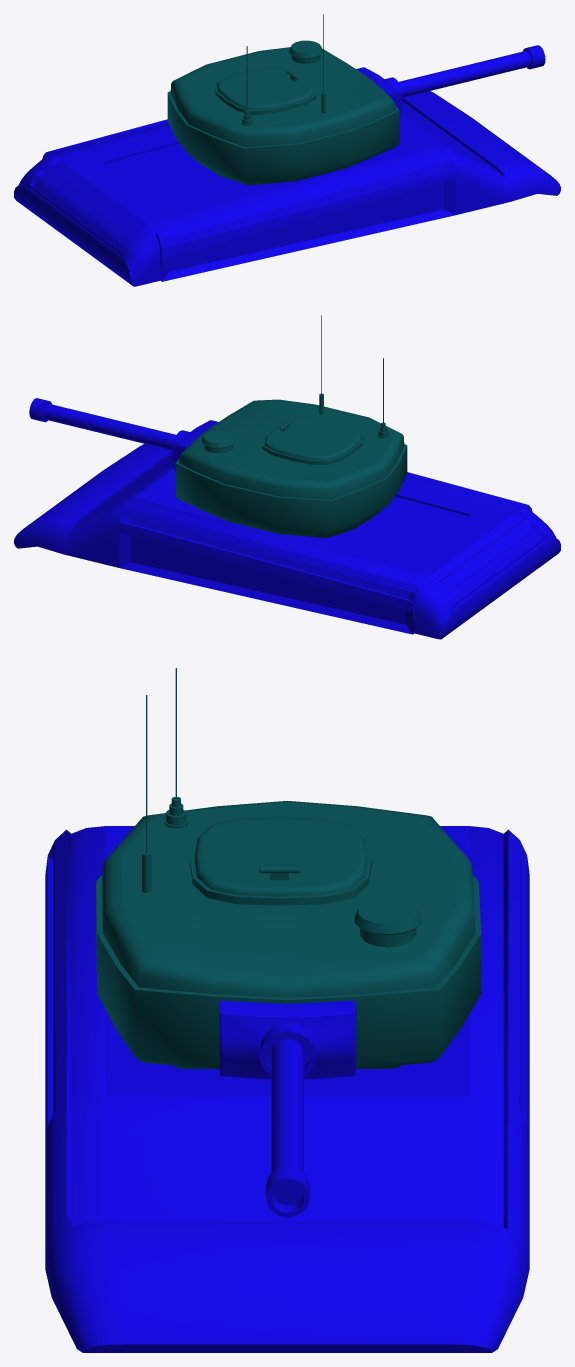
The model's file is Weapon_Cannon.FBX.
The picture shows the model from 3 angles, top to bottom: view 1: azimuth 30°, elevation 25°; view 2: azimuth 150°, elevation 25°; view 3: azimuth 270°, elevation 25°; orthographic projection. The views are drawn at different scales.
Visible parts, largest first — view 1: Tank Body, Tank Head, Tank Lid Hendel, Tank Barrel, Tank Barrel Holder, Random Tank Cylinder, Tank Deksel 2; view 2: Tank Body, Tank Head, Tank Lid Hendel, Tank Barrel, Tank Barrel Holder, Random Tank Cylinder, Tank Deksel 2; view 3: Tank Body, Tank Head, Tank Lid Hendel, Tank Barrel Holder, Tank Barrel, Random Tank Cylinder, Tank Deksel 2.
Part boxes in pixels (x1=…): Tank Body: x1=14, y1=91, x2=560, y2=286; Tank Head: x1=167, y1=47, x2=399, y2=185; Tank Lid Hendel: x1=216, y1=67, x2=313, y2=110; Tank Barrel: x1=398, y1=45, x2=545, y2=97; Tank Barrel Holder: x1=356, y1=67, x2=402, y2=118; Random Tank Cylinder: x1=289, y1=40, x2=322, y2=63; Tank Deksel 2: x1=214, y1=79, x2=316, y2=114; Tank Body: x1=14, y1=444, x2=560, y2=639; Tank Head: x1=175, y1=399, x2=407, y2=538; Tank Lid Hendel: x1=264, y1=417, x2=361, y2=460; Tank Barrel: x1=29, y1=398, x2=176, y2=450; Tank Barrel Holder: x1=172, y1=420, x2=218, y2=471; Random Tank Cylinder: x1=201, y1=430, x2=235, y2=453; Tank Deksel 2: x1=262, y1=430, x2=363, y2=464; Tank Body: x1=45, y1=826, x2=529, y2=1352; Tank Head: x1=96, y1=801, x2=481, y2=1068; Tank Lid Hendel: x1=194, y1=817, x2=367, y2=896; Tank Barrel Holder: x1=219, y1=1000, x2=356, y2=1079; Tank Barrel: x1=266, y1=1039, x2=309, y2=1217; Random Tank Cylinder: x1=354, y1=898, x2=421, y2=947; Tank Deksel 2: x1=190, y1=826, x2=371, y2=905.
Bounding box in the file's own units: 267 × 121 × 120.
